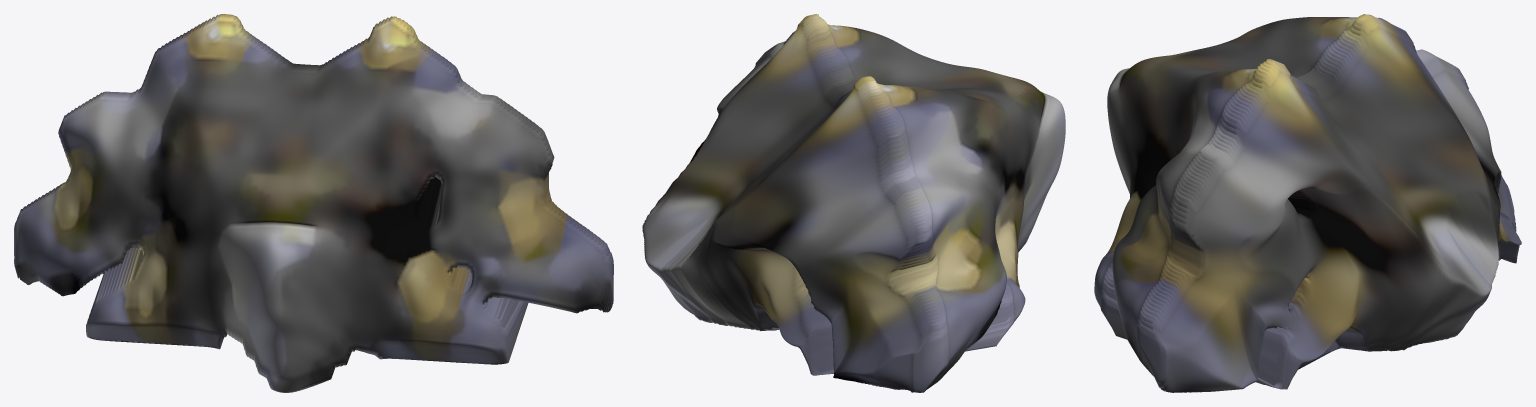
The model's file is soviet_sentry_gun.glb.
3 views of the same model, side by side, from view 1: azimuth 30°, elevation 25°; view 2: azimuth 150°, elevation 25°; view 3: azimuth 270°, elevation 25° (orthographic). The views are drawn at different scales.
Visible parts, largest first — view 1: soviet_sentry_gun; view 2: soviet_sentry_gun; view 3: soviet_sentry_gun.
Boxes of the visible parts, box(x1,y1,x2,y2) form: soviet_sentry_gun: box(14, 14, 613, 392); soviet_sentry_gun: box(642, 14, 1065, 392); soviet_sentry_gun: box(1094, 14, 1521, 392).
Bounding box in the file's own units: 1.85 × 1.17 × 1.73.
